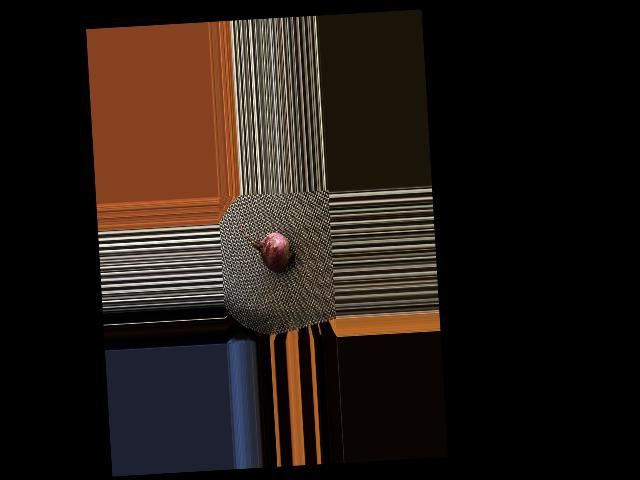beet: (237, 213, 296, 274)
